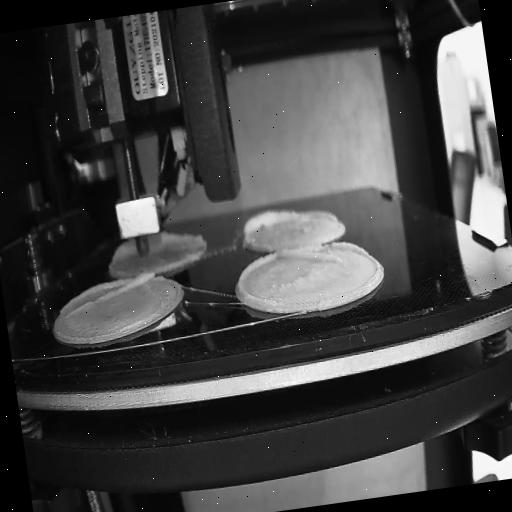over_extrusion: (63, 270, 159, 320), (277, 236, 370, 274), (231, 252, 283, 310), (238, 205, 300, 245), (150, 230, 206, 252), (108, 237, 138, 262), (304, 206, 337, 226)
